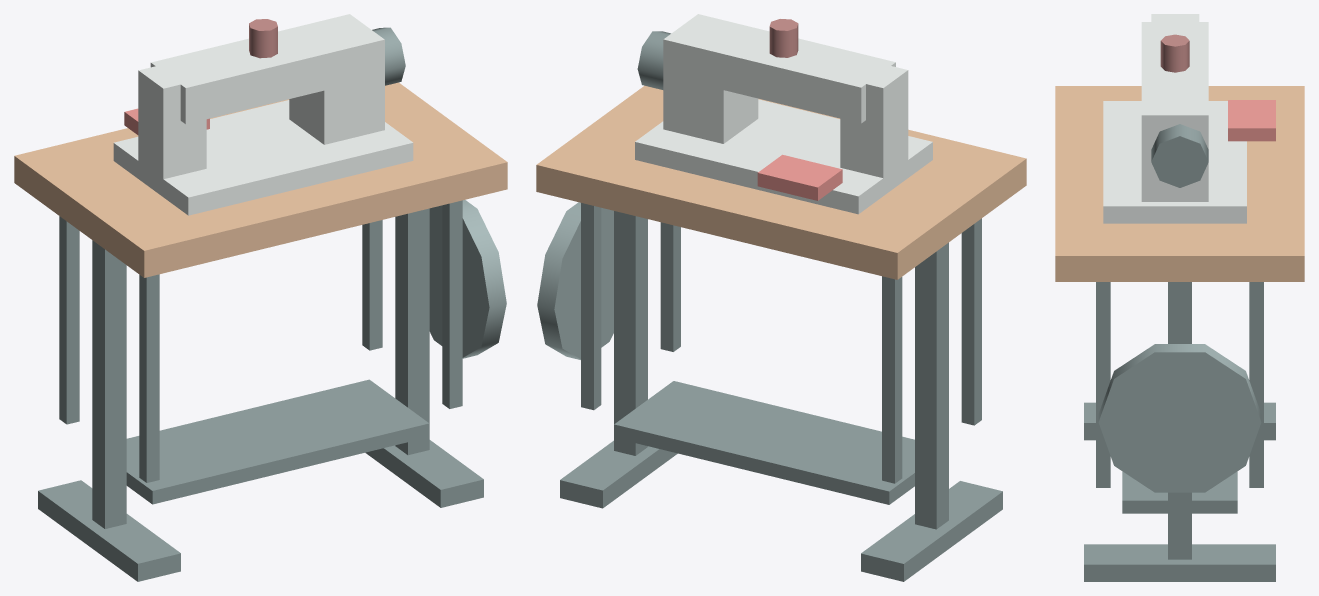
Rendered from sewingTable.glb.
3 views of the same model, side by side, from view 1: azimuth 30°, elevation 25°; view 2: azimuth 150°, elevation 25°; view 3: azimuth 270°, elevation 25° (orthographic). The views are drawn at different scales.
Parts seen in each view (by area): view 1: sewingTable; view 2: sewingTable; view 3: sewingTable.
Boxes of the visible parts, <box> form: sewingTable: <box>14,14,507,581</box>; sewingTable: <box>536,14,1026,581</box>; sewingTable: <box>1055,14,1304,581</box>.
Size of the model in its own units: 0.445 by 0.53 by 0.26.
